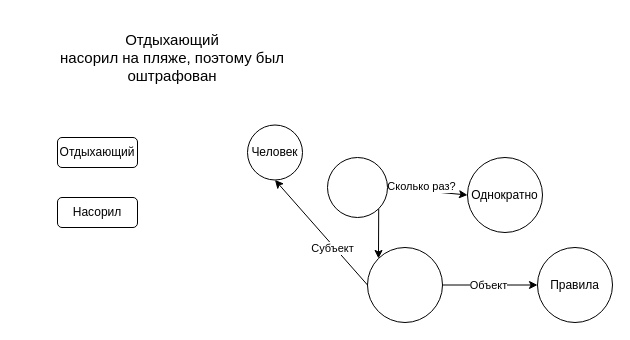
Some shapes in this 630 by 340 pixel diagram are drawn without their labels. Here are the shapes that lost their labels. From the top down, the centre of each, then its label:
pixel 357 187: Сорить
pixel 404 284: Нарушить
